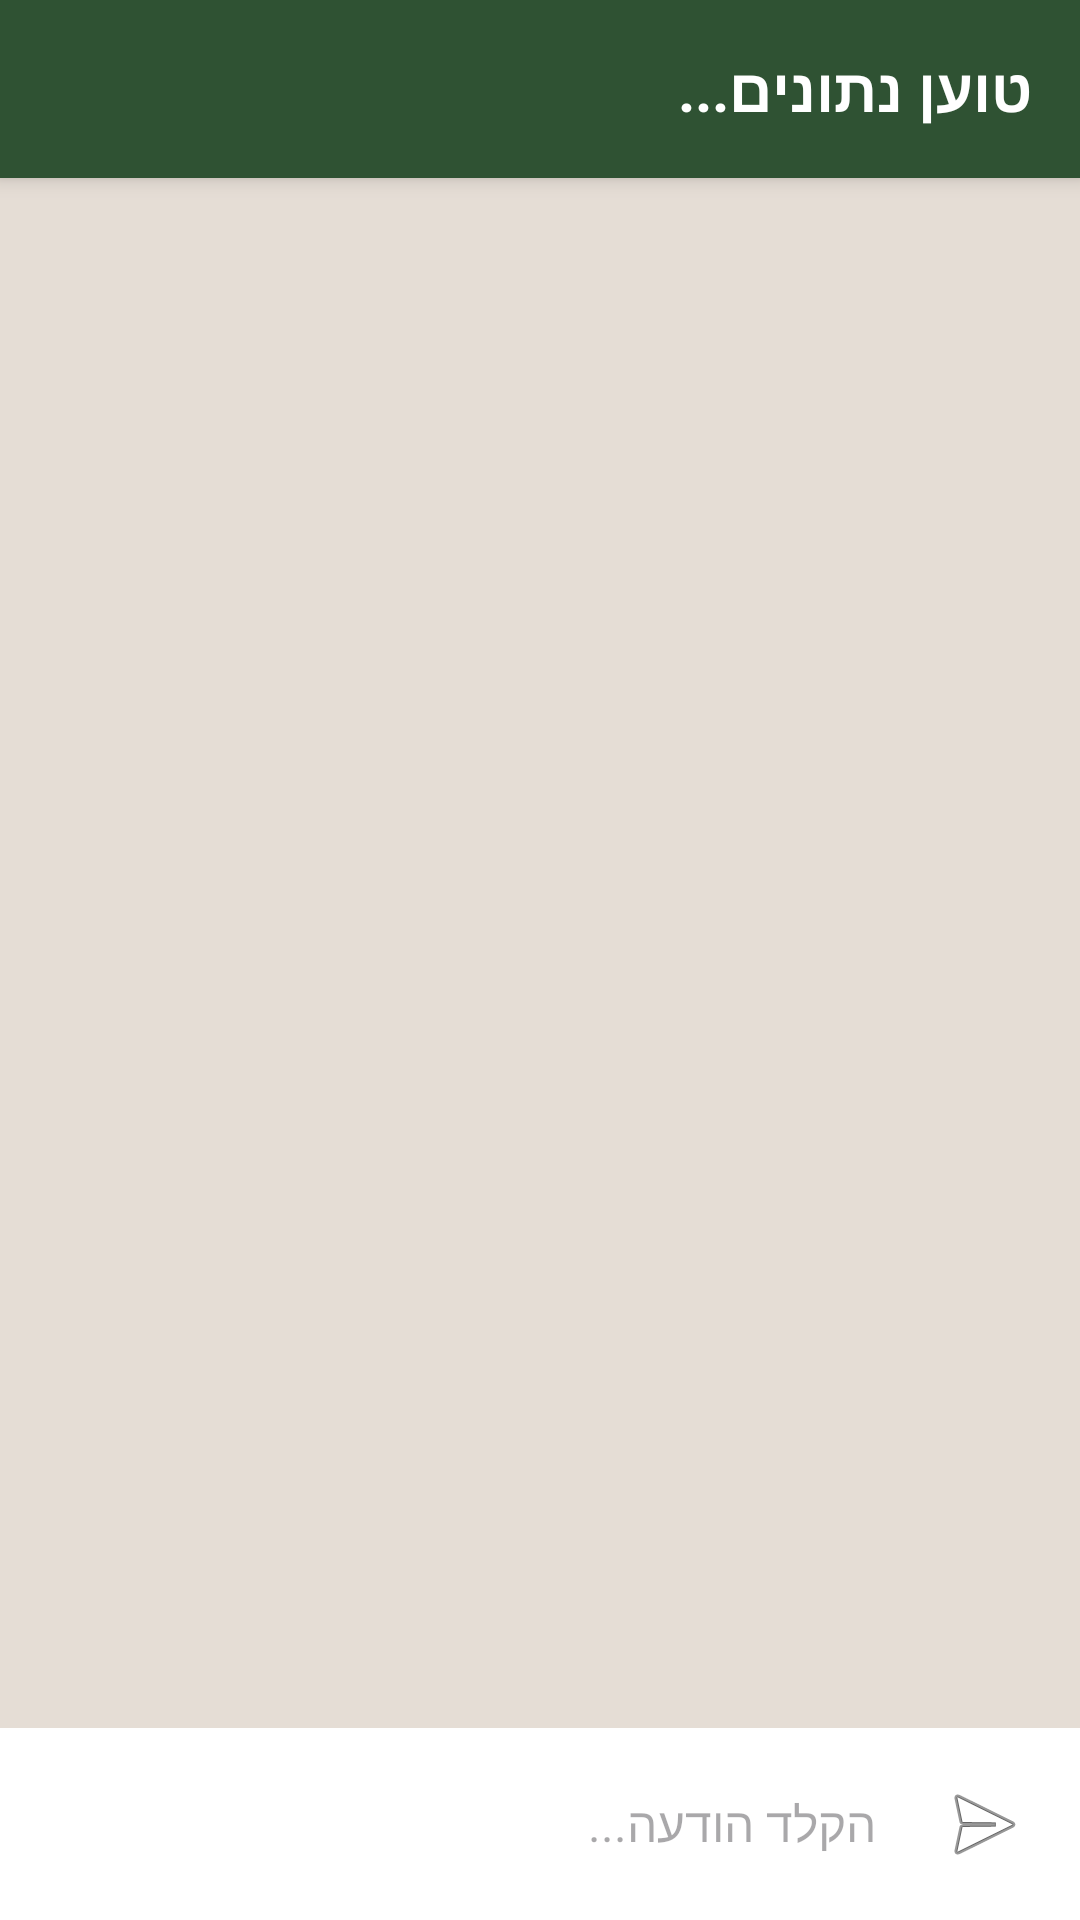

Icons on this 1080×1920 Android screen, each with the point to tap as (x=x, y=y):
שלח: (x=985, y=1824)
